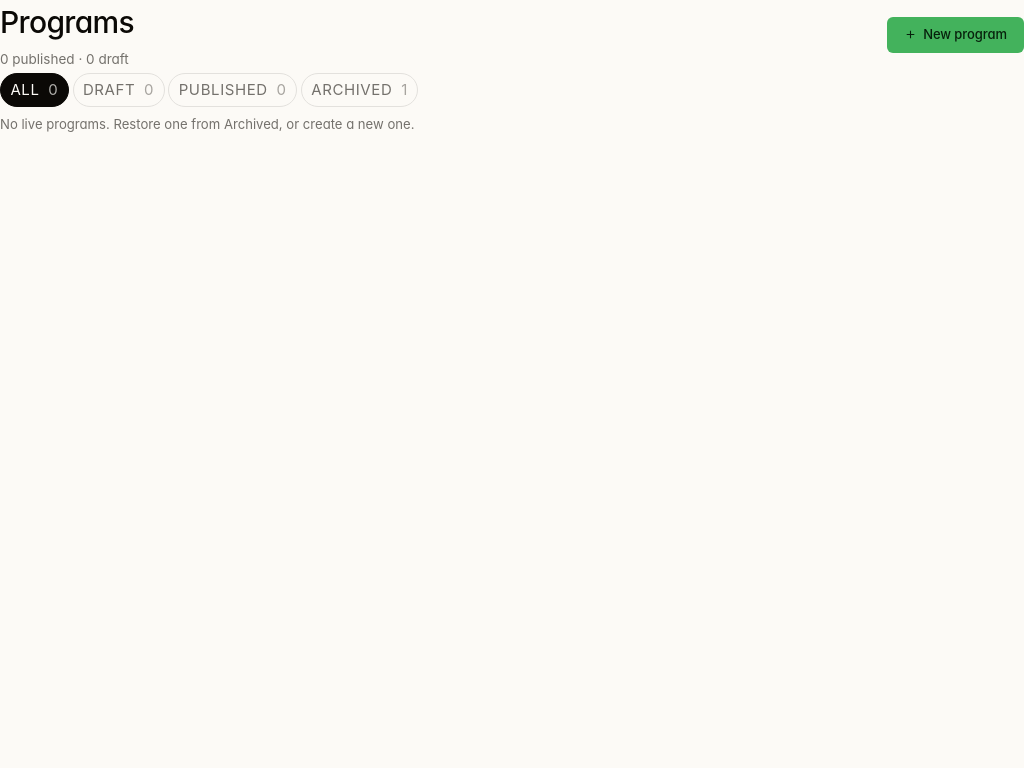
it: programs: restore › says why a refused (403) restore failed, and leaves the program archived
Click the button "Archived 1" at (360, 90), box [301, 73, 418, 107]
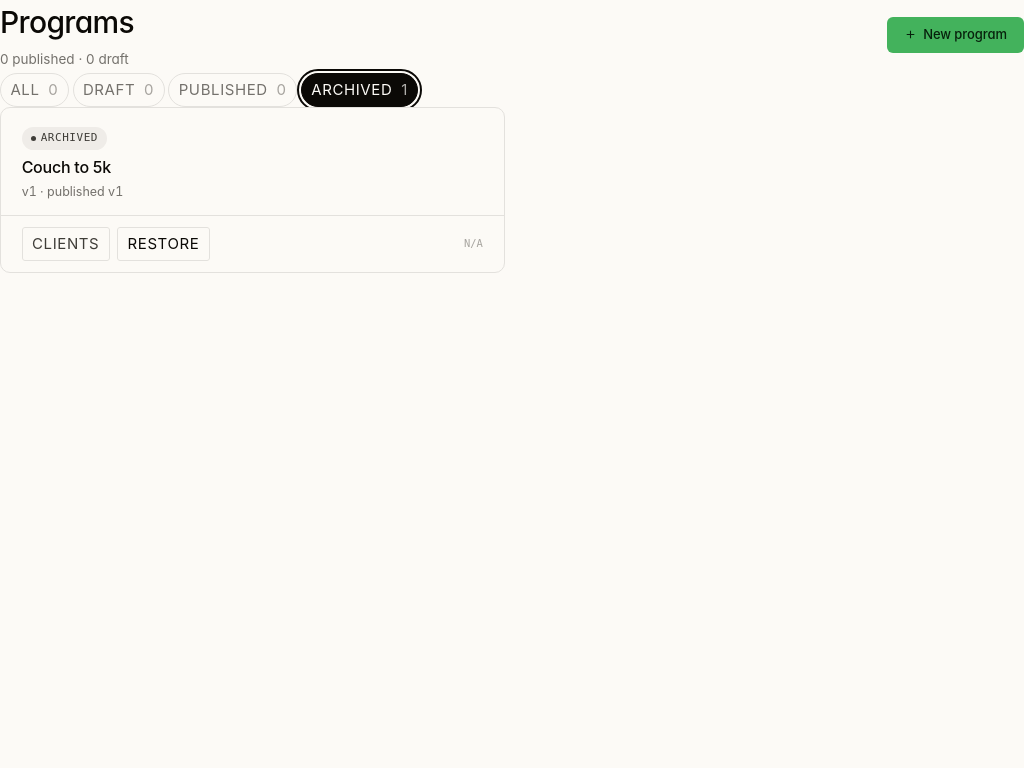
Click the button "Restore" at (163, 244), box [117, 227, 210, 261]
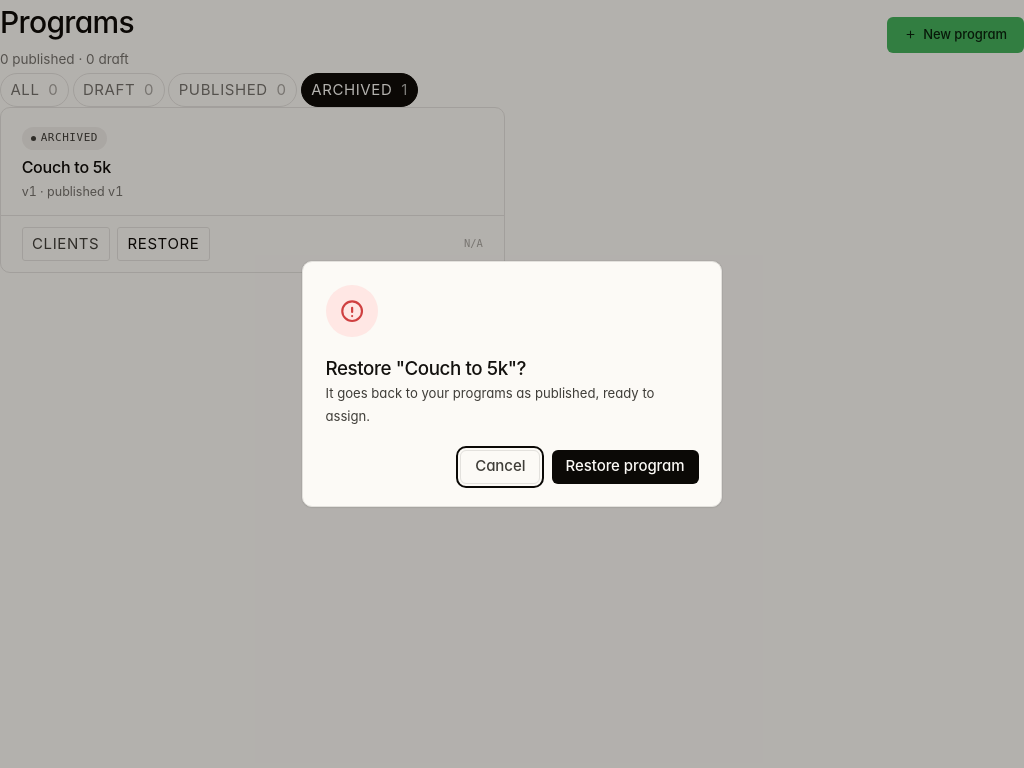
Click the button "Restore program" at (625, 466), box [552, 450, 698, 484]
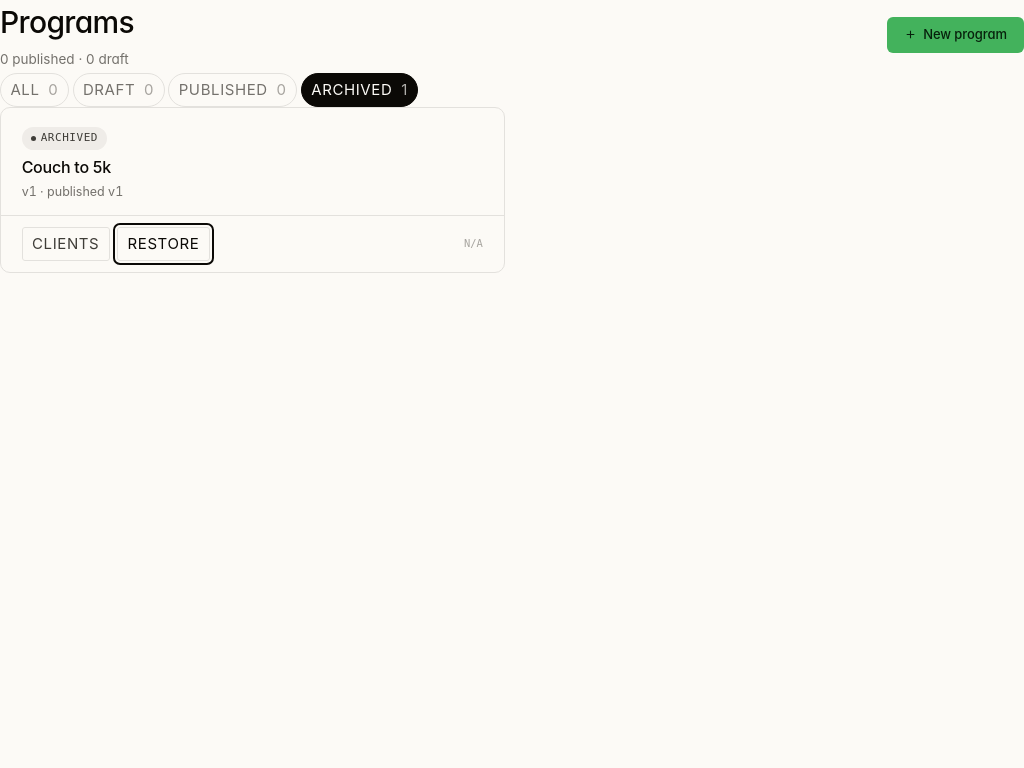
Expected: the button "Restore" is shown, [117, 227, 210, 261]
Now the text "assign" is gone
